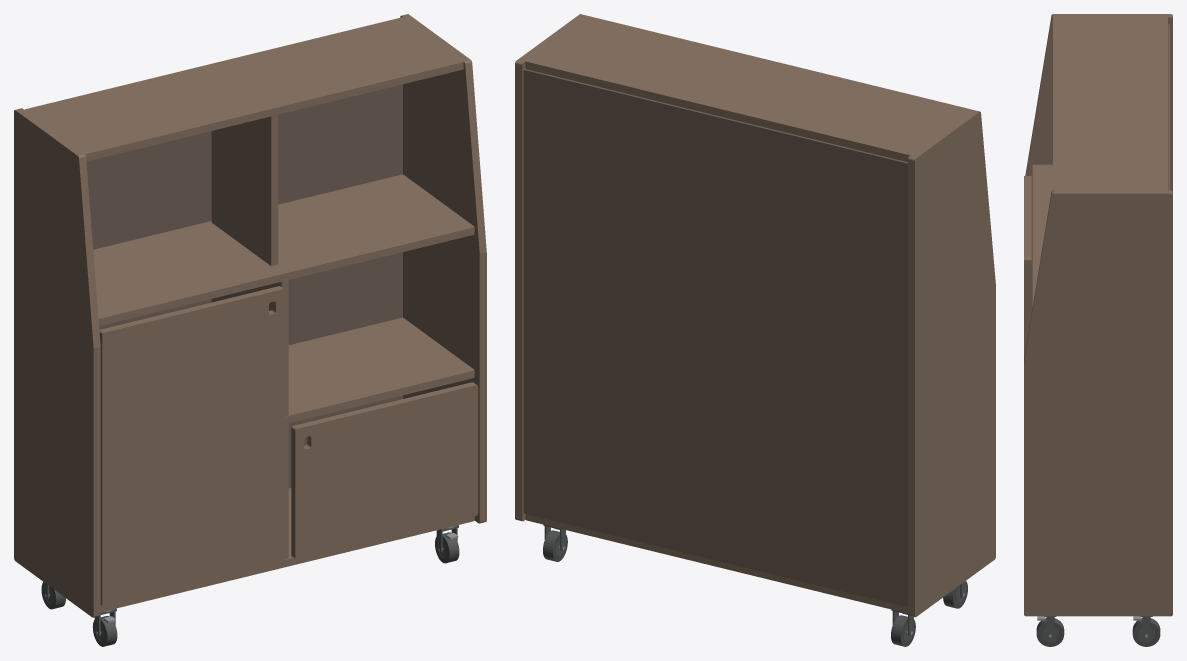
Rendered from clean.glb.
3 renders of one model, left to right at view 1: azimuth 30°, elevation 25°; view 2: azimuth 150°, elevation 25°; view 3: azimuth 270°, elevation 25°, orthographic. The views are drawn at different scales.
Visible parts, largest first — view 1: door-tall-left, frame-left, back-panel, shelf-3, door-low-right, shelf-2, frame-right, shelf-1, partition-2, shelf-0, partition-1; view 2: back-panel, frame-left, shelf-3, frame-right, shelf-0; view 3: frame-right, shelf-3, frame-left, shelf-2, door-tall-left, back-panel, caster-3-tire, caster-1-tire.
Part boxes in pixels (bbox=[...]): door-tall-left: bbox=[99, 286, 284, 606]; frame-left: bbox=[14, 108, 100, 617]; back-panel: bbox=[86, 84, 402, 488]; shelf-3: bbox=[24, 17, 463, 161]; door-low-right: bbox=[291, 382, 478, 559]; shelf-2: bbox=[93, 174, 474, 326]; frame-right: bbox=[400, 14, 486, 523]; shelf-1: bbox=[285, 317, 474, 423]; partition-2: bbox=[211, 115, 278, 266]; shelf-0: bbox=[100, 488, 474, 611]; partition-1: bbox=[211, 280, 288, 416]; back-panel: bbox=[523, 69, 907, 607]; frame-left: bbox=[908, 110, 995, 617]; shelf-3: bbox=[525, 16, 971, 162]; frame-right: bbox=[515, 14, 587, 521]; shelf-0: bbox=[525, 514, 907, 613]; frame-right: bbox=[1024, 190, 1172, 616]; shelf-3: bbox=[1053, 17, 1167, 190]; frame-left: bbox=[1025, 14, 1172, 311]; shelf-2: bbox=[1032, 164, 1052, 305]; door-tall-left: bbox=[1024, 176, 1031, 358]; back-panel: bbox=[1168, 24, 1170, 190]; caster-3-tire: bbox=[1132, 618, 1160, 646]; caster-1-tire: bbox=[1036, 618, 1064, 646].
Bounding box in the file's own units: 1 × 1.2 × 0.35.
